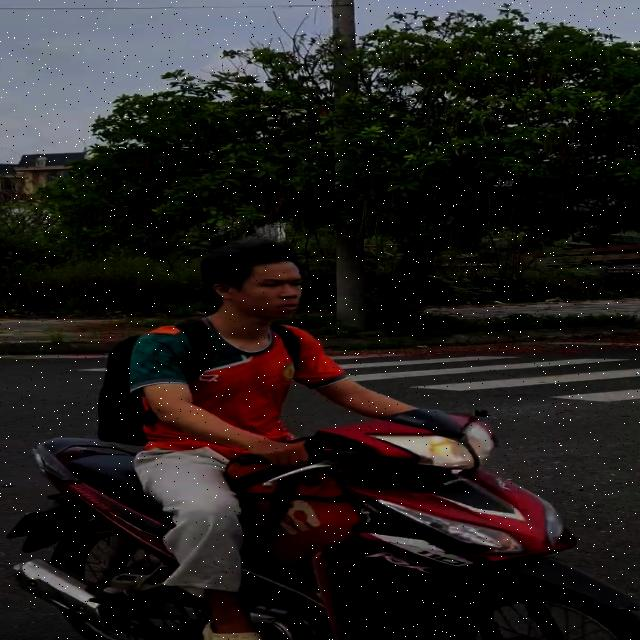no_helmet: (197, 236, 306, 337)
